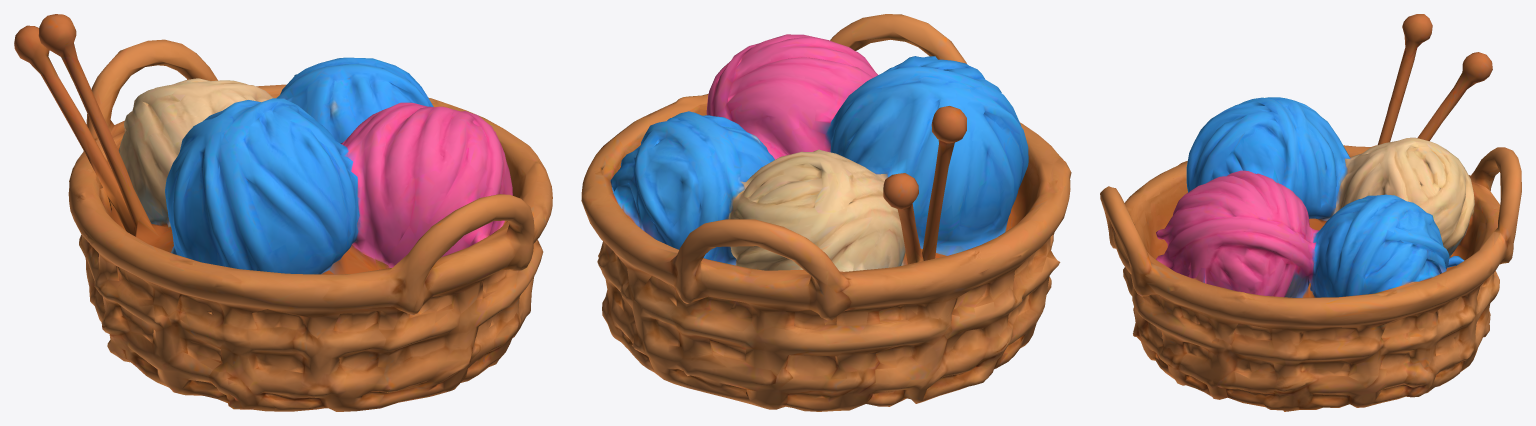
The model's file is keepsake-yarn-basket.glb.
3 views of the same model, side by side, from view 1: azimuth 30°, elevation 25°; view 2: azimuth 150°, elevation 25°; view 3: azimuth 270°, elevation 25° (orthographic). The views are drawn at different scales.
Visible parts, largest first — view 1: tripo_node_f9afb605-70ea-4b68-b5ff-d13334c81f25; view 2: tripo_node_f9afb605-70ea-4b68-b5ff-d13334c81f25; view 3: tripo_node_f9afb605-70ea-4b68-b5ff-d13334c81f25.
Part boxes in pixels (x1,y1,x2,y2): tripo_node_f9afb605-70ea-4b68-b5ff-d13334c81f25: [14, 14, 552, 411]; tripo_node_f9afb605-70ea-4b68-b5ff-d13334c81f25: [581, 14, 1071, 411]; tripo_node_f9afb605-70ea-4b68-b5ff-d13334c81f25: [1100, 14, 1521, 411].
Size of the model in its own units: 0.9028 by 0.6451 by 0.9687.
Materials: 1 (1 with a texture image).
